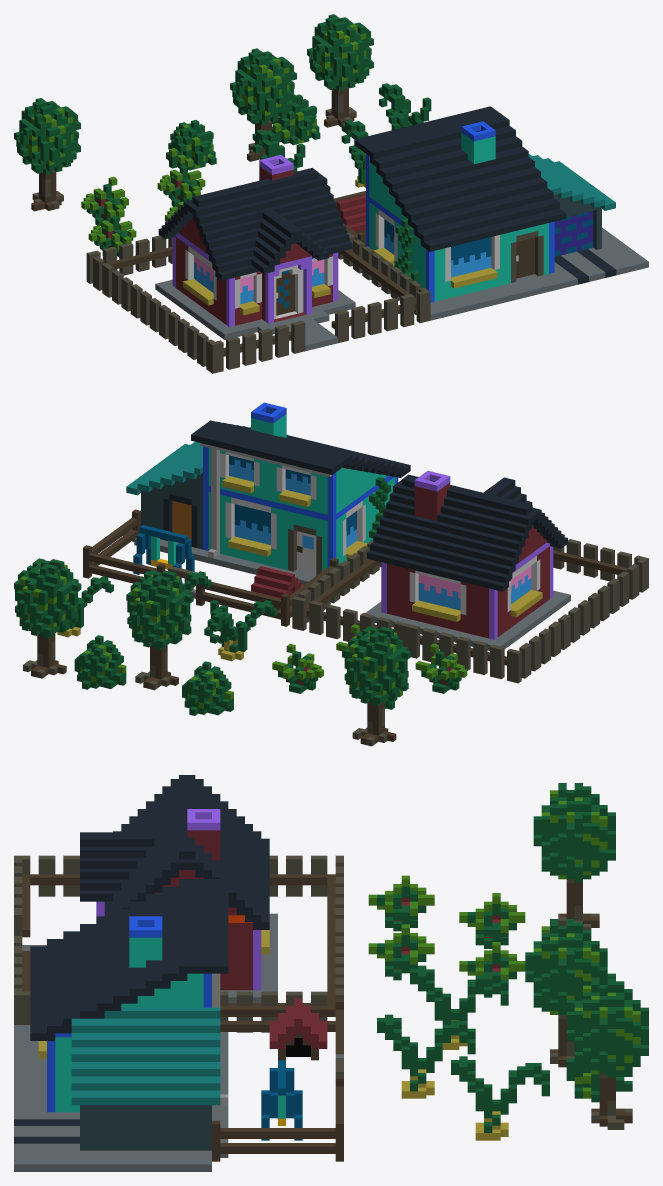
Rendered from building_small_3_overtile.obj.
The picture shows the model from 3 angles, top to bottom: view 1: azimuth 30°, elevation 25°; view 2: azimuth 150°, elevation 25°; view 3: azimuth 270°, elevation 25°; orthographic projection. The views are drawn at different scales.
Bounding box in the file's own units: 8 × 2.3 × 7.7.
Materials: 1 (1 with a texture image).
